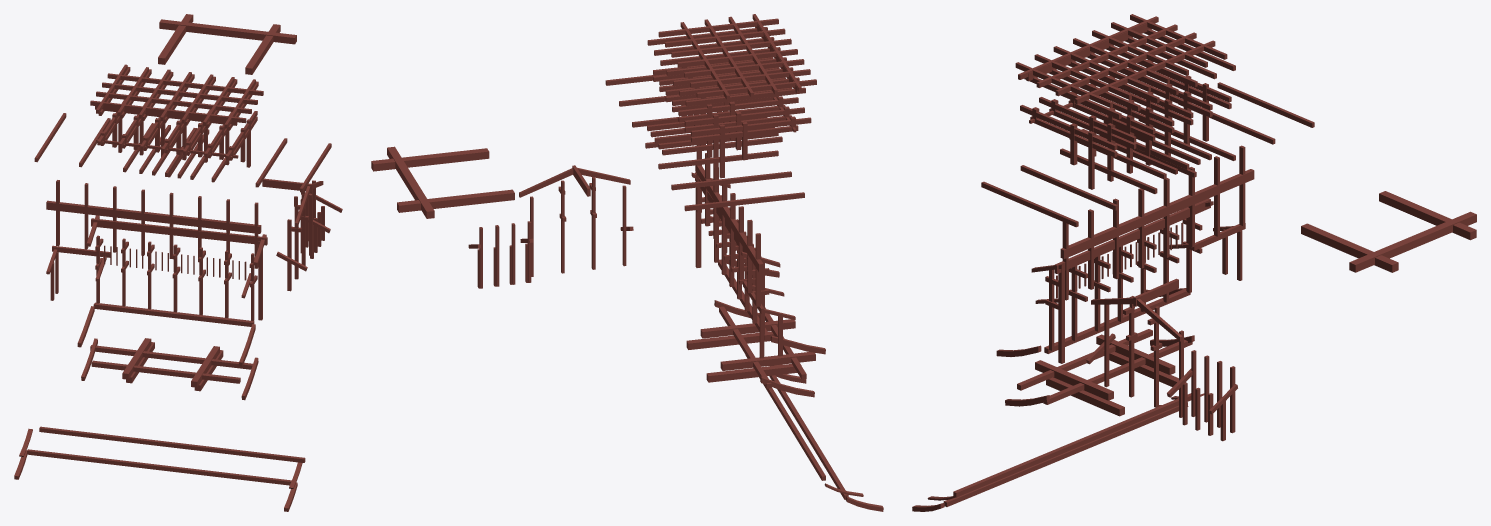
Rendered from structure pilier bois 01.fbx.
The picture shows the model from 3 angles, left to right: view 1: azimuth 30°, elevation 25°; view 2: azimuth 150°, elevation 25°; view 3: azimuth 270°, elevation 25°; orthographic projection. The views are drawn at different scales.
Parts seen in each view (by area): view 1: Cube.303, Cube.281, Cube.269, Cube.301, Plane.260, Plane.258, Cube.305, Cube.419, Plane.811, Cube.297, Cube.398, Plane.530 (+18 smaller); view 2: Cube.301, Cube.302, Cube.305, Cube.297, Cube.281, Cube.298, Cube.592, Cube.303, Plane.347, Plane.348, Cube.398, Plane.809 (+10 smaller); view 3: Cube.301, Cube.305, Cube.302, Cube.281, Cube.298, Cube.303, Cube.297, Cube.269, Cube.592, Cube.594, Plane.260, Cube.398 (+21 smaller).
Boxes of the visible parts, x1=… form: Cube.303: x1=90, y1=73, x2=263, y2=123; Cube.281: x1=56, y1=180, x2=258, y2=268; Cube.269: x1=46, y1=200, x2=261, y2=233; Cube.301: x1=96, y1=64, x2=255, y2=128; Plane.260: x1=39, y1=426, x2=305, y2=462; Plane.258: x1=27, y1=449, x2=291, y2=485; Cube.305: x1=34, y1=113, x2=331, y2=192; Cube.419: x1=91, y1=218, x2=267, y2=245; Plane.811: x1=159, y1=19, x2=296, y2=44; Cube.297: x1=97, y1=99, x2=257, y2=159; Cube.398: x1=287, y1=189, x2=312, y2=291; Plane.530: x1=93, y1=302, x2=254, y2=326; Cube.301: x1=658, y1=18, x2=816, y2=98; Cube.302: x1=647, y1=27, x2=805, y2=106; Cube.305: x1=605, y1=74, x2=804, y2=211; Cube.297: x1=653, y1=57, x2=811, y2=136; Cube.281: x1=696, y1=145, x2=760, y2=306; Cube.298: x1=653, y1=74, x2=798, y2=142; Cube.592: x1=647, y1=117, x2=782, y2=155; Cube.303: x1=680, y1=14, x2=801, y2=99; Plane.347: x1=700, y1=319, x2=815, y2=370; Plane.348: x1=686, y1=331, x2=801, y2=382; Cube.398: x1=530, y1=185, x2=626, y2=276; Plane.809: x1=371, y1=148, x2=489, y2=171; Cube.301: x1=1015, y1=14, x2=1227, y2=107; Cube.305: x1=981, y1=82, x2=1314, y2=227; Cube.302: x1=1024, y1=29, x2=1235, y2=119; Cube.281: x1=1062, y1=145, x2=1245, y2=300; Cube.298: x1=1030, y1=71, x2=1231, y2=157; Cube.303: x1=1018, y1=16, x2=1215, y2=104; Cube.297: x1=1020, y1=63, x2=1231, y2=150; Cube.269: x1=1060, y1=169, x2=1254, y2=258; Cube.592: x1=1069, y1=119, x2=1211, y2=179; Cube.594: x1=1088, y1=83, x2=1208, y2=189; Plane.260: x1=953, y1=393, x2=1191, y2=497; Cube.398: x1=1104, y1=304, x2=1183, y2=417.
Bounding box in the file's own units: 5441 × 5156 × 6035.
